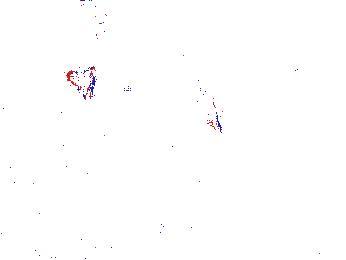glassfish: (183, 68, 228, 144)
redtail glassfish: (65, 67, 95, 98), (78, 1, 110, 24)
